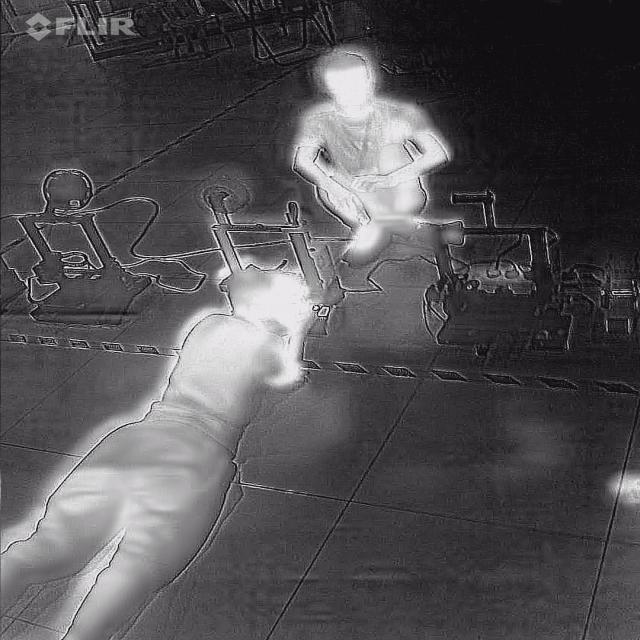Victim: (0, 256, 321, 638), (269, 39, 476, 265)
